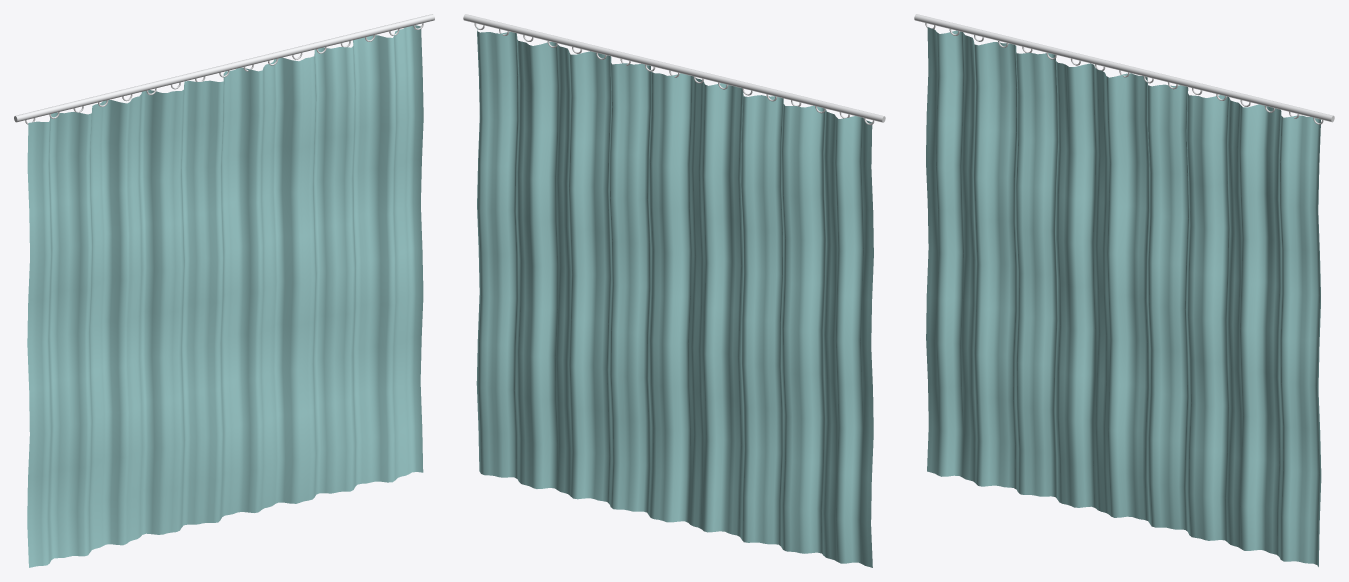
File: ShowerCurtain.glb
3 renders of one model, left to right at view 1: azimuth 30°, elevation 25°; view 2: azimuth 150°, elevation 25°; view 3: azimuth 330°, elevation 25°, orthographic.
Parts seen in each view (by area): view 1: ShowerCurtain; view 2: ShowerCurtain; view 3: ShowerCurtain.
Part boxes in pixels (x1,y1,x2,y2): ShowerCurtain: [14, 14, 434, 567]; ShowerCurtain: [463, 14, 885, 567]; ShowerCurtain: [914, 14, 1334, 566].
Bounding box in the file's own units: 1.72 × 1.79 × 0.099.
2 materials, 1 textured.
